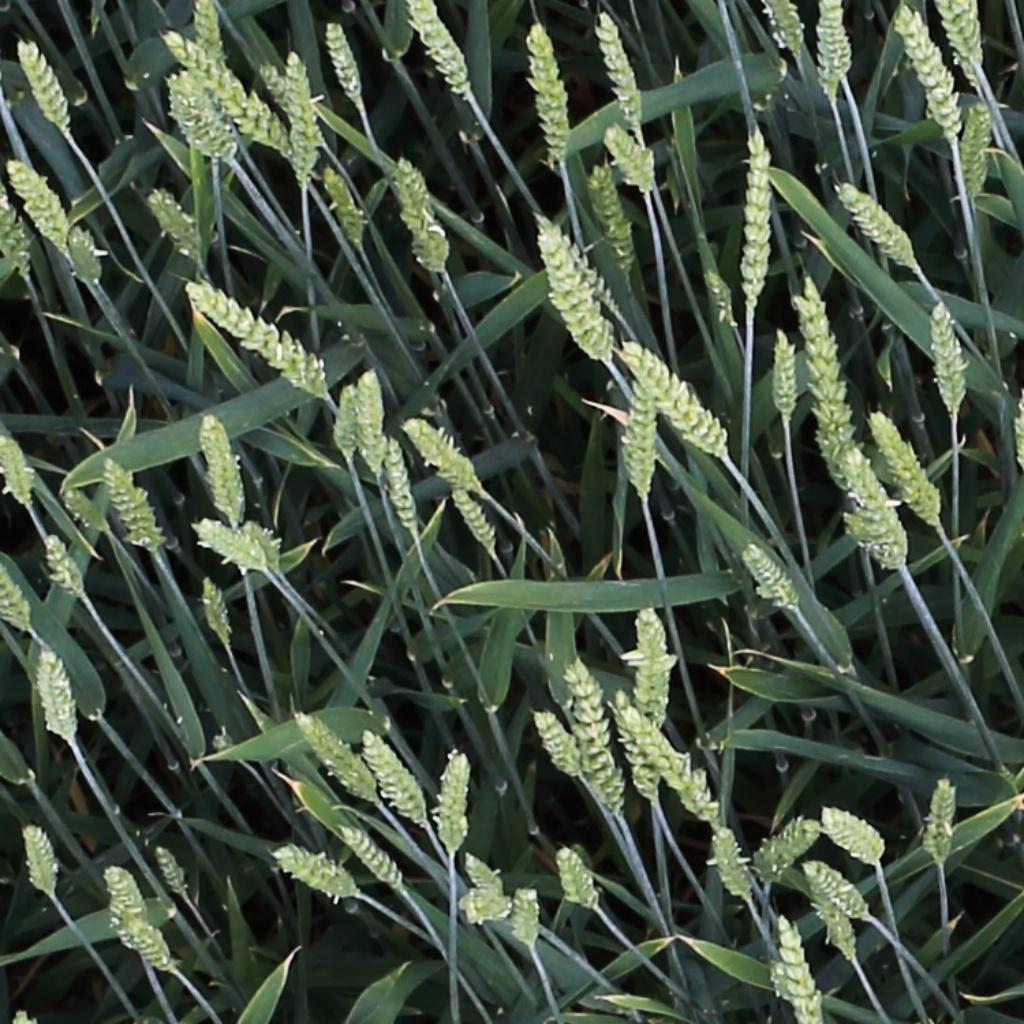0-0: (187, 278, 327, 391), (621, 335, 733, 460), (622, 701, 719, 824), (536, 217, 613, 361), (892, 4, 966, 144), (869, 404, 947, 527), (567, 658, 626, 819), (838, 446, 903, 571), (293, 711, 380, 804), (535, 207, 615, 307), (836, 177, 922, 268), (360, 729, 431, 830), (2, 152, 75, 248), (409, 1, 477, 102), (167, 64, 237, 162), (12, 34, 75, 139), (595, 8, 648, 131), (528, 21, 572, 169), (163, 32, 251, 105), (206, 83, 294, 155), (608, 692, 663, 805), (394, 158, 447, 273), (589, 159, 640, 277), (99, 454, 161, 550), (404, 415, 480, 491), (146, 182, 210, 264), (775, 913, 823, 1021), (200, 410, 244, 525), (338, 824, 408, 895), (806, 871, 865, 955), (745, 131, 772, 304), (742, 540, 805, 613), (756, 819, 823, 887), (285, 49, 318, 184), (319, 158, 370, 245), (274, 849, 359, 901), (529, 705, 585, 783), (447, 480, 502, 558), (806, 862, 875, 924), (0, 167, 31, 305), (36, 644, 77, 748), (430, 747, 467, 862), (322, 15, 367, 109), (603, 118, 659, 193), (382, 435, 423, 536), (931, 296, 965, 417), (120, 907, 177, 977), (937, 0, 987, 76), (102, 865, 146, 951), (712, 823, 757, 907), (554, 843, 603, 920), (823, 808, 888, 866), (39, 529, 88, 604), (815, 0, 850, 105), (630, 370, 658, 501), (638, 603, 667, 729), (195, 522, 270, 569), (0, 540, 36, 637), (357, 363, 386, 479), (20, 819, 58, 905), (196, 572, 236, 651), (256, 60, 303, 127), (962, 98, 991, 200), (150, 842, 195, 906), (0, 428, 35, 510), (64, 219, 105, 288), (58, 484, 111, 535), (238, 512, 284, 569), (775, 324, 800, 428), (456, 886, 502, 942), (768, 0, 812, 58), (929, 779, 955, 872), (334, 378, 361, 464), (195, 0, 226, 70), (463, 848, 508, 893), (820, 13, 853, 74), (705, 271, 738, 330), (514, 880, 540, 951)
